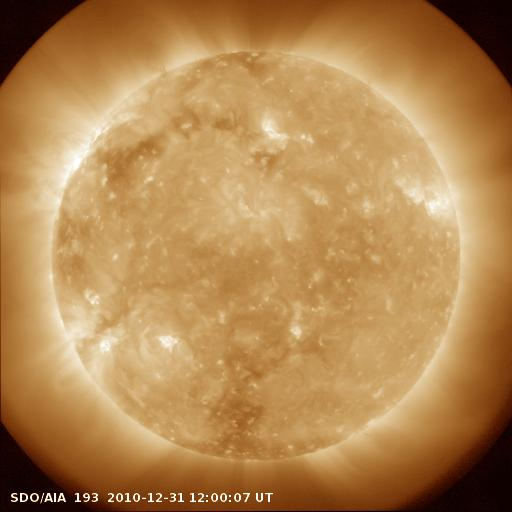coronal_hole: (89, 127, 174, 180)
